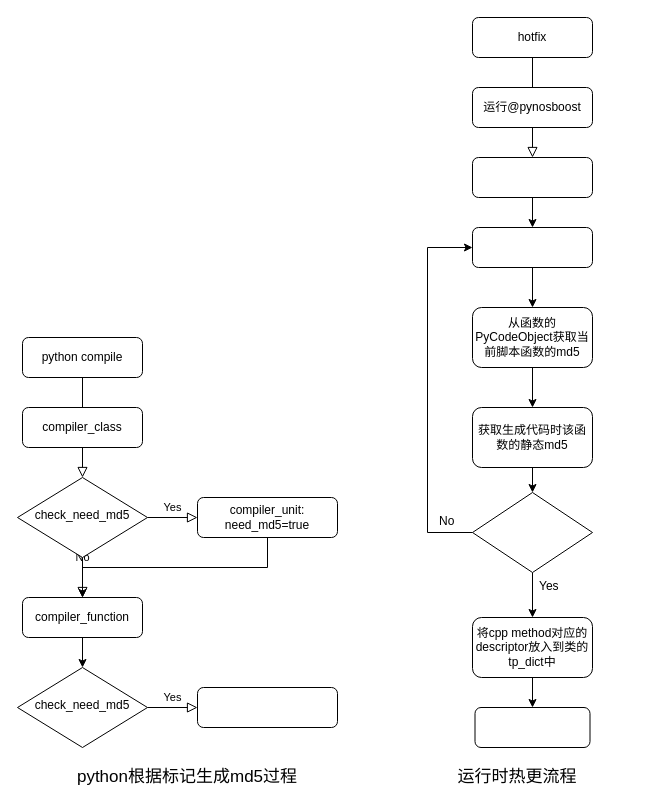
Image size: 655x805. Some labels were removed from this diagram. Each missing label, with the centre of its shape:
"bind class" belongs at point 532,177.
"cal and set md5 to PyCodeObject" belongs at point 267,707.
"两个md5相等" belongs at point 532,532.
"尝试将所有的成员函数替换成C++实现" belongs at point 532,247.
"该成员函数被切换成Cpp版本" belongs at point 532,727.
